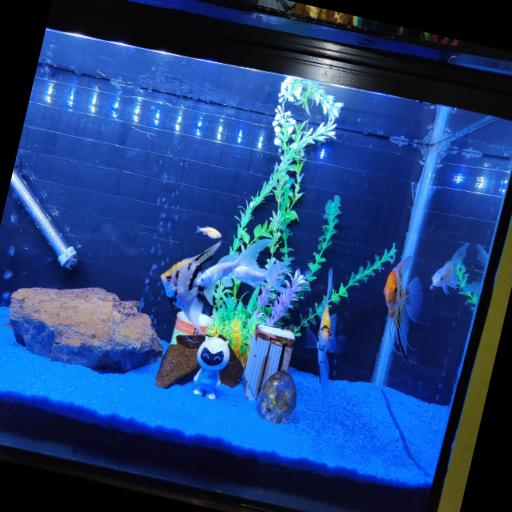Fish: (160, 242, 219, 331), (305, 268, 345, 399), (383, 256, 422, 360), (195, 239, 271, 287), (317, 268, 345, 353), (429, 243, 468, 293), (230, 261, 286, 292), (195, 226, 220, 239), (476, 244, 487, 269), (476, 244, 487, 268)
